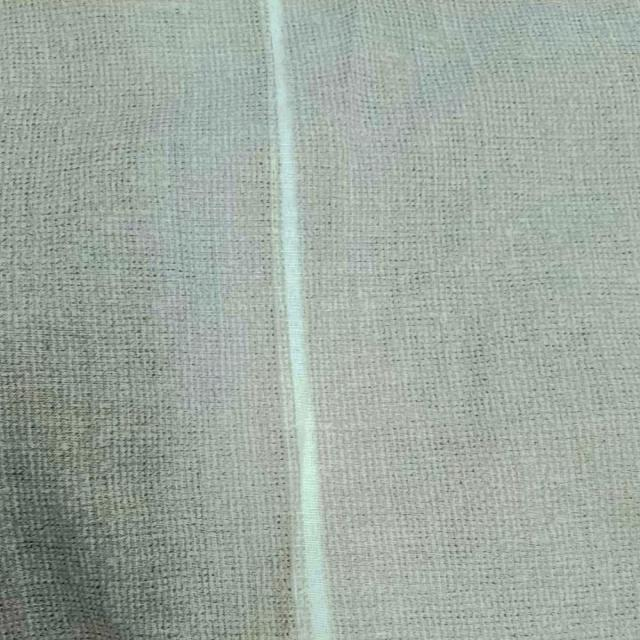selvet: (247, 0, 352, 640)
